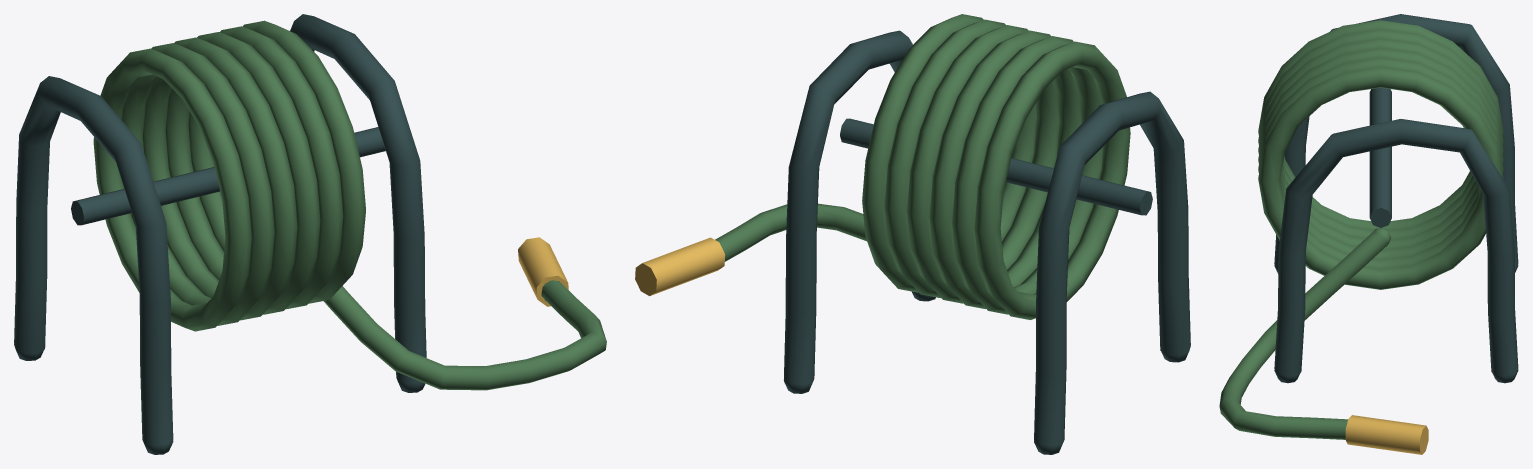
The model's file is almanac-gardens-hose-reel-981a3051__22078.glb.
3 renders of one model, left to right at view 1: azimuth 30°, elevation 25°; view 2: azimuth 150°, elevation 25°; view 3: azimuth 270°, elevation 25°, orthographic. The views are drawn at different scales.
Parts seen in each view (by area): view 1: hose-reel-leaf, hose-reel-iron, hose-reel-gold; view 2: hose-reel-leaf, hose-reel-iron, hose-reel-gold; view 3: hose-reel-leaf, hose-reel-iron, hose-reel-gold.
Boxes of the visible parts, box(x1,y1,x2,y2) form: hose-reel-leaf: box(93, 20, 606, 390); hose-reel-iron: box(14, 14, 426, 454); hose-reel-gold: box(518, 237, 568, 306); hose-reel-leaf: box(715, 14, 1130, 319); hose-reel-iron: box(784, 30, 1190, 454); hose-reel-gold: box(635, 237, 725, 296); hose-reel-leaf: box(1219, 20, 1503, 439); hose-reel-iron: box(1274, 14, 1518, 383); hose-reel-gold: box(1345, 415, 1428, 454).
Bounding box in the file's own units: 0.7816 × 0.51 × 0.4824.
